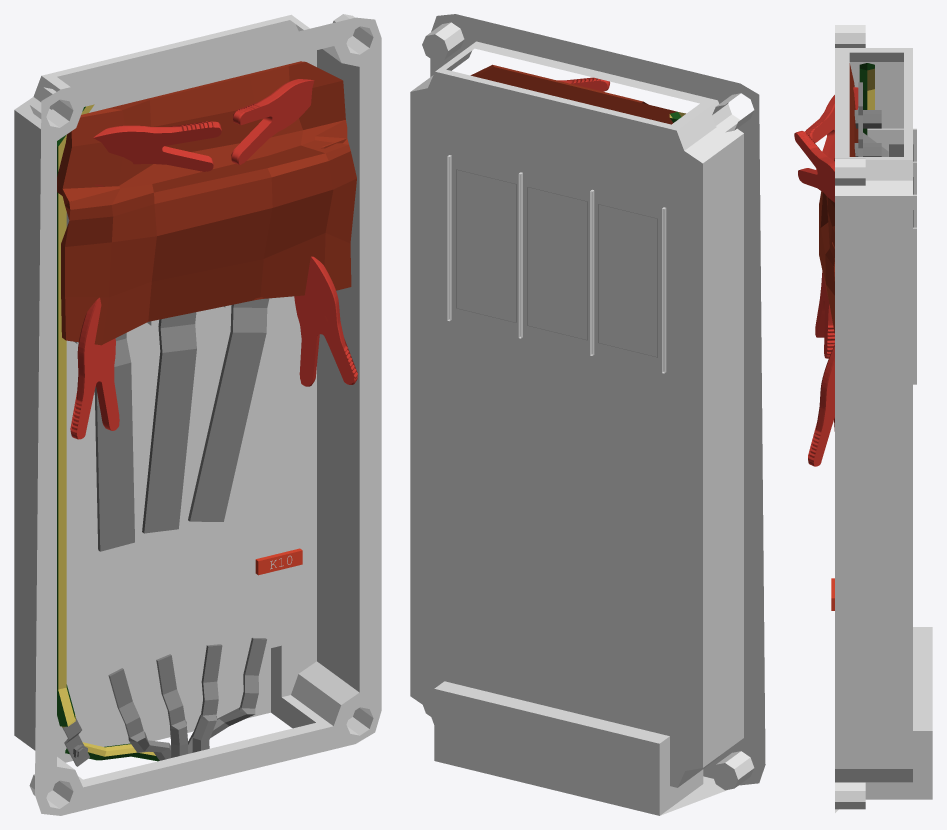
Rendered from Main-Distributor-V001-11-with-blanket.fbx.
3 views of the same model, side by side, from view 1: azimuth 30°, elevation 25°; view 2: azimuth 150°, elevation 25°; view 3: azimuth 270°, elevation 25° (orthographic). The views are drawn at different scales.
Parts seen in each view (by area): view 1: 000-box, Safety-blanket, 07-cables, BezierCurve.003, BezierCurve.001, BezierCurve.002, BezierCurve.000, 007-box.001, tagname.K10; view 2: 000-box, Safety-blanket; view 3: 000-box, Safety-blanket, BezierCurve.003, BezierCurve.000, BezierCurve.001, BezierCurve.002.
Part boxes in pixels (bbox=[...]): 000-box: bbox=[14, 14, 381, 815]; Safety-blanket: bbox=[57, 61, 356, 345]; 07-cables: bbox=[108, 637, 266, 760]; BezierCurve.003: bbox=[294, 256, 357, 386]; BezierCurve.001: bbox=[93, 121, 221, 171]; BezierCurve.002: bbox=[70, 297, 119, 439]; BezierCurve.000: bbox=[231, 79, 314, 164]; 007-box.001: bbox=[65, 742, 159, 761]; tagname.K10: bbox=[255, 548, 302, 575]; 000-box: bbox=[410, 14, 765, 815]; Safety-blanket: bbox=[470, 64, 685, 124]; 000-box: bbox=[835, 25, 932, 812]; Safety-blanket: bbox=[819, 63, 858, 333]; BezierCurve.003: bbox=[808, 345, 834, 466]; BezierCurve.000: bbox=[794, 131, 834, 202]; BezierCurve.001: bbox=[805, 87, 858, 170]; BezierCurve.002: bbox=[815, 271, 834, 358].
Size of the model in its own units: 200 by 404 by 75.4.
